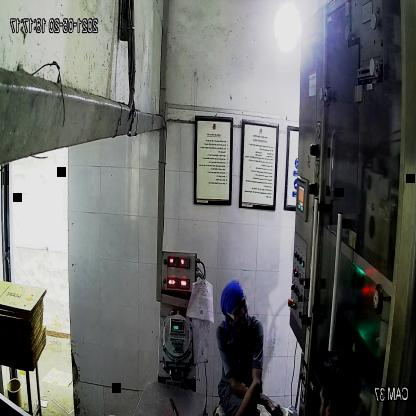goggles: (223, 299, 249, 325)
